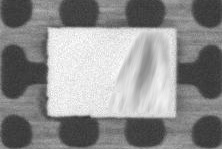DIE_INK: (155, 18, 222, 77)
